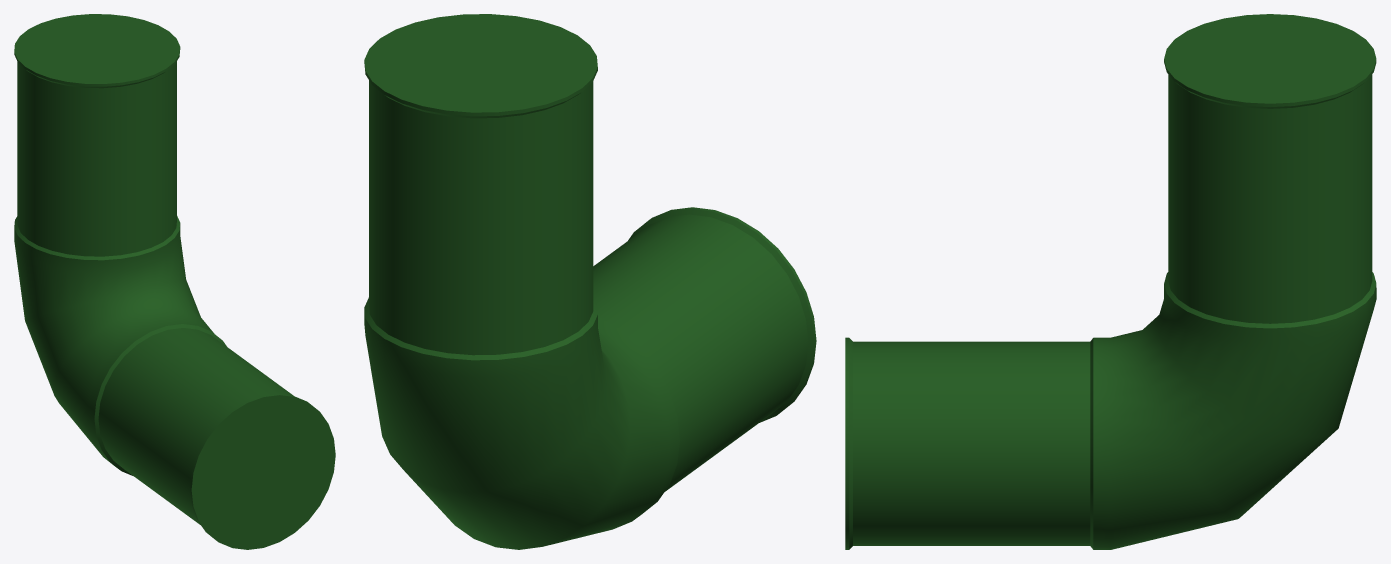
File: Pipe_L-Turn_16cm.fbx
3 views of the same model, side by side, from view 1: azimuth 30°, elevation 25°; view 2: azimuth 150°, elevation 25°; view 3: azimuth 270°, elevation 25° (orthographic). The views are drawn at different scales.
Parts seen in each view (by area): view 1: Pipe_L-Turn_16cm; view 2: Pipe_L-Turn_16cm; view 3: Pipe_L-Turn_16cm.
Boxes of the visible parts, <box> form: Pipe_L-Turn_16cm: <box>14,14,335,549</box>; Pipe_L-Turn_16cm: <box>364,14,816,549</box>; Pipe_L-Turn_16cm: <box>845,14,1376,549</box>.
Size of the model in its own units: 16 by 39.99 by 40.
